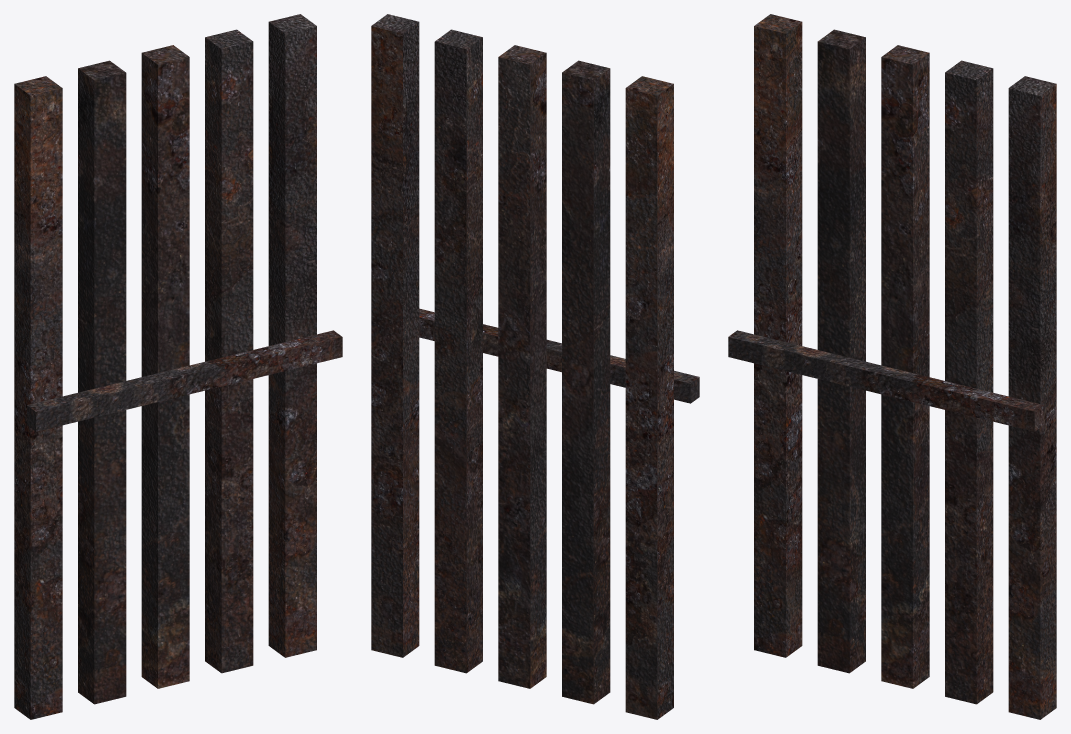
File: Prison_door.fbx
3 renders of one model, left to right at view 1: azimuth 30°, elevation 25°; view 2: azimuth 150°, elevation 25°; view 3: azimuth 330°, elevation 25°, orthographic.
Visible parts, largest first — view 1: Prison_door; view 2: Prison_door; view 3: Prison_door.
Boxes of the visible parts, x1,y1,x2,y2 form: Prison_door: (14, 14, 342, 719); Prison_door: (371, 14, 699, 719); Prison_door: (728, 14, 1056, 719).
Size of the model in its own units: 1.29 by 2.5 by 0.2328.
